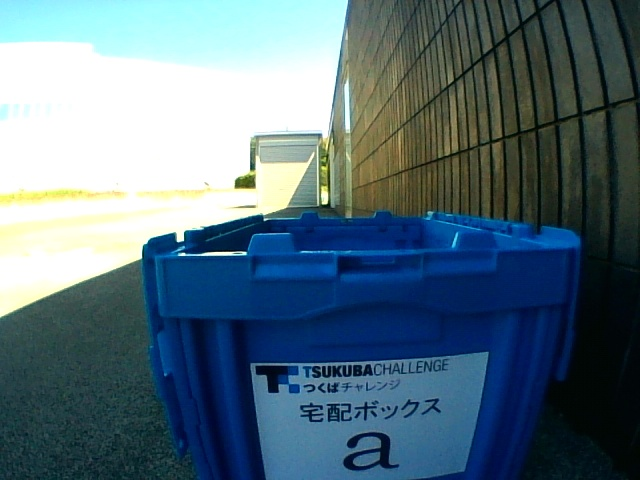blue_box: (142, 210, 581, 480)
tag_a: (276, 366, 447, 475)
